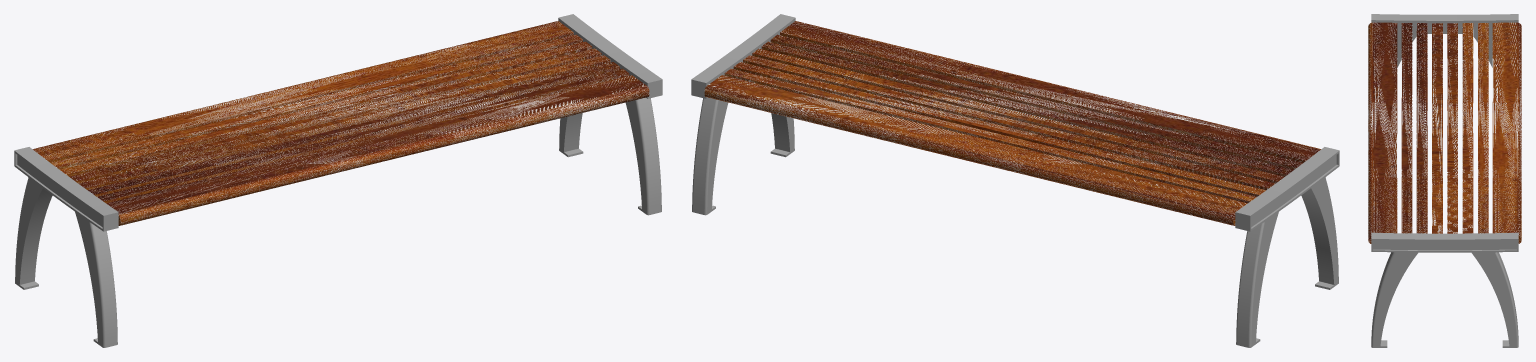
3 renders of one model, left to right at view 1: azimuth 30°, elevation 25°; view 2: azimuth 150°, elevation 25°; view 3: azimuth 270°, elevation 25°, orthographic. The views are drawn at different scales.
Visible parts, largest first — view 1: mesh5_mesh5-geometry, mesh1_mesh1-geometry, mesh12_mesh12-geometry, mesh11_mesh11-geometry, mesh10_mesh10-geometry, mesh9_mesh9-geometry, mesh8_mesh8-geometry, mesh7_mesh7-geometry, mesh6_mesh6-geometry; view 2: mesh12_mesh12-geometry, mesh1_mesh1-geometry, mesh5_mesh5-geometry, mesh6_mesh6-geometry, mesh7_mesh7-geometry, mesh8_mesh8-geometry, mesh9_mesh9-geometry, mesh10_mesh10-geometry, mesh11_mesh11-geometry; view 3: mesh1_mesh1-geometry, mesh5_mesh5-geometry, mesh12_mesh12-geometry, mesh10_mesh10-geometry, mesh6_mesh6-geometry, mesh7_mesh7-geometry, mesh8_mesh8-geometry, mesh9_mesh9-geometry, mesh11_mesh11-geometry.
Part boxes in pixels (x1=…): mesh5_mesh5-geometry: x1=106, y1=75, x2=649, y2=225; mesh1_mesh1-geometry: x1=14, y1=14, x2=662, y2=347; mesh12_mesh12-geometry: x1=33, y1=21, x2=573, y2=162; mesh11_mesh11-geometry: x1=51, y1=34, x2=582, y2=169; mesh10_mesh10-geometry: x1=60, y1=41, x2=592, y2=176; mesh9_mesh9-geometry: x1=69, y1=48, x2=601, y2=183; mesh8_mesh8-geometry: x1=78, y1=55, x2=610, y2=189; mesh7_mesh7-geometry: x1=88, y1=62, x2=619, y2=196; mesh6_mesh6-geometry: x1=97, y1=68, x2=629, y2=203; mesh12_mesh12-geometry: x1=704, y1=75, x2=1247, y2=225; mesh1_mesh1-geometry: x1=691, y1=14, x2=1339, y2=347; mesh5_mesh5-geometry: x1=780, y1=21, x2=1320, y2=162; mesh6_mesh6-geometry: x1=770, y1=34, x2=1302, y2=169; mesh7_mesh7-geometry: x1=761, y1=41, x2=1293, y2=176; mesh8_mesh8-geometry: x1=752, y1=48, x2=1284, y2=183; mesh9_mesh9-geometry: x1=743, y1=55, x2=1274, y2=190; mesh10_mesh10-geometry: x1=733, y1=62, x2=1265, y2=196; mesh11_mesh11-geometry: x1=724, y1=68, x2=1256, y2=203; mesh1_mesh1-geometry: x1=1371, y1=14, x2=1518, y2=347; mesh5_mesh5-geometry: x1=1368, y1=22, x2=1397, y2=243; mesh12_mesh12-geometry: x1=1492, y1=22, x2=1521, y2=243; mesh10_mesh10-geometry: x1=1462, y1=23, x2=1473, y2=233; mesh6_mesh6-geometry: x1=1401, y1=23, x2=1412, y2=233; mesh7_mesh7-geometry: x1=1416, y1=23, x2=1427, y2=233; mesh8_mesh8-geometry: x1=1432, y1=23, x2=1442, y2=233; mesh9_mesh9-geometry: x1=1447, y1=23, x2=1457, y2=233; mesh11_mesh11-geometry: x1=1478, y1=23, x2=1488, y2=233.
Bounding box in the file's own units: 0.939 × 0.2126 × 0.2705.
